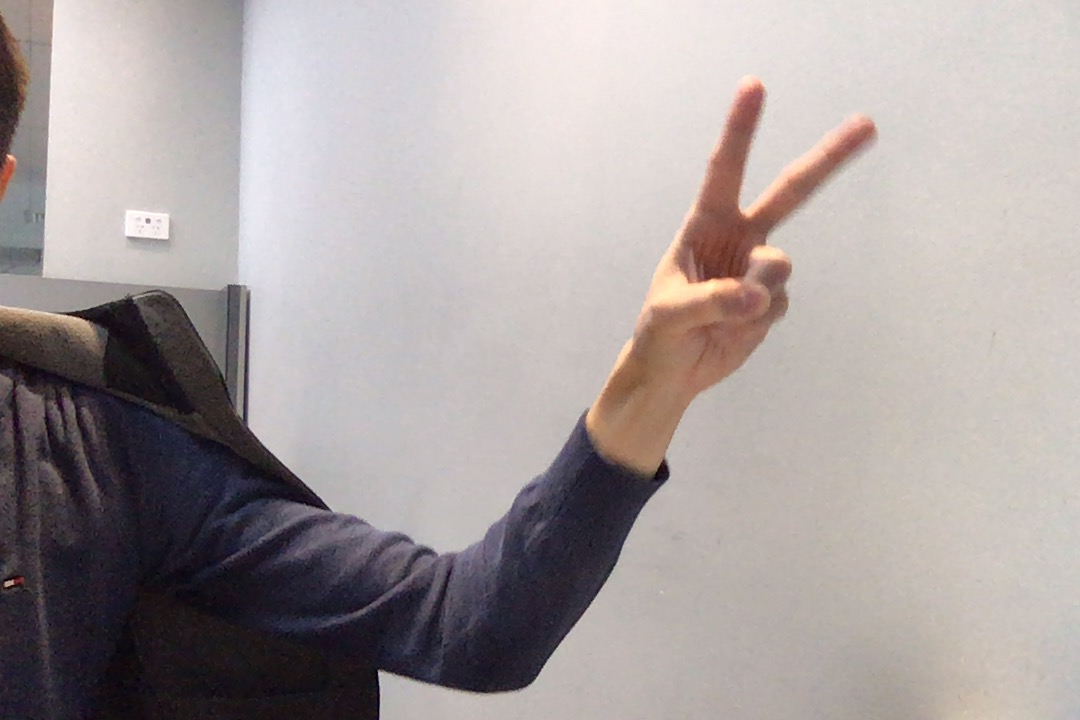peacesign: (621, 72, 890, 407)
